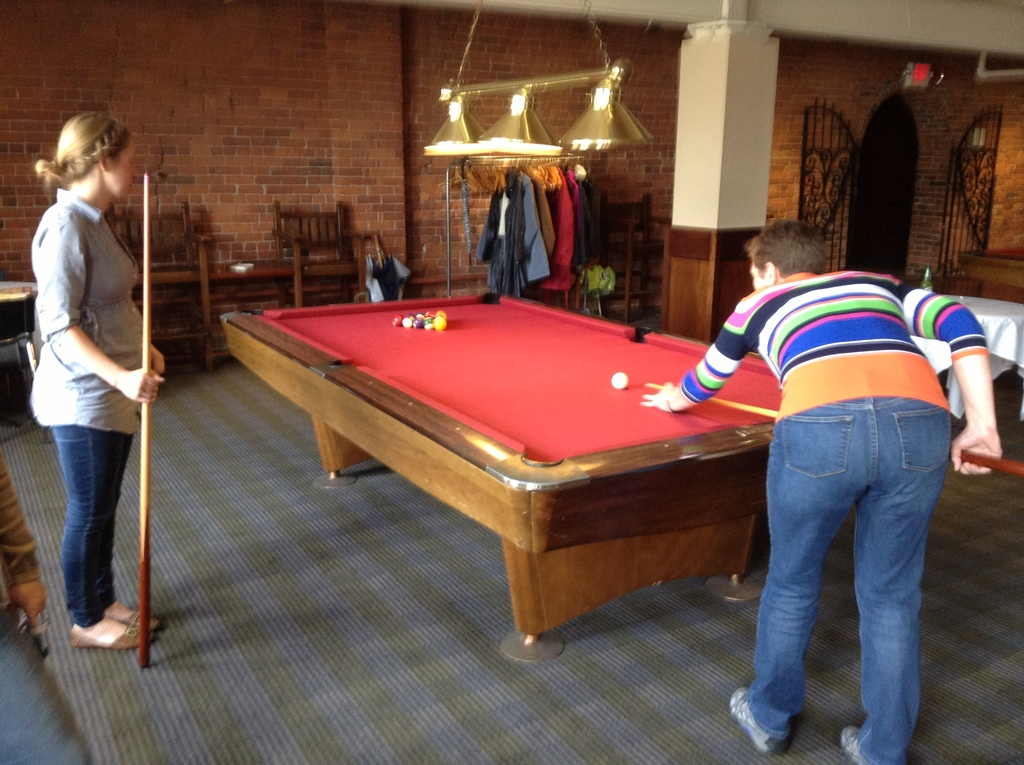Ball: (390, 309, 443, 330), (611, 371, 630, 392)
